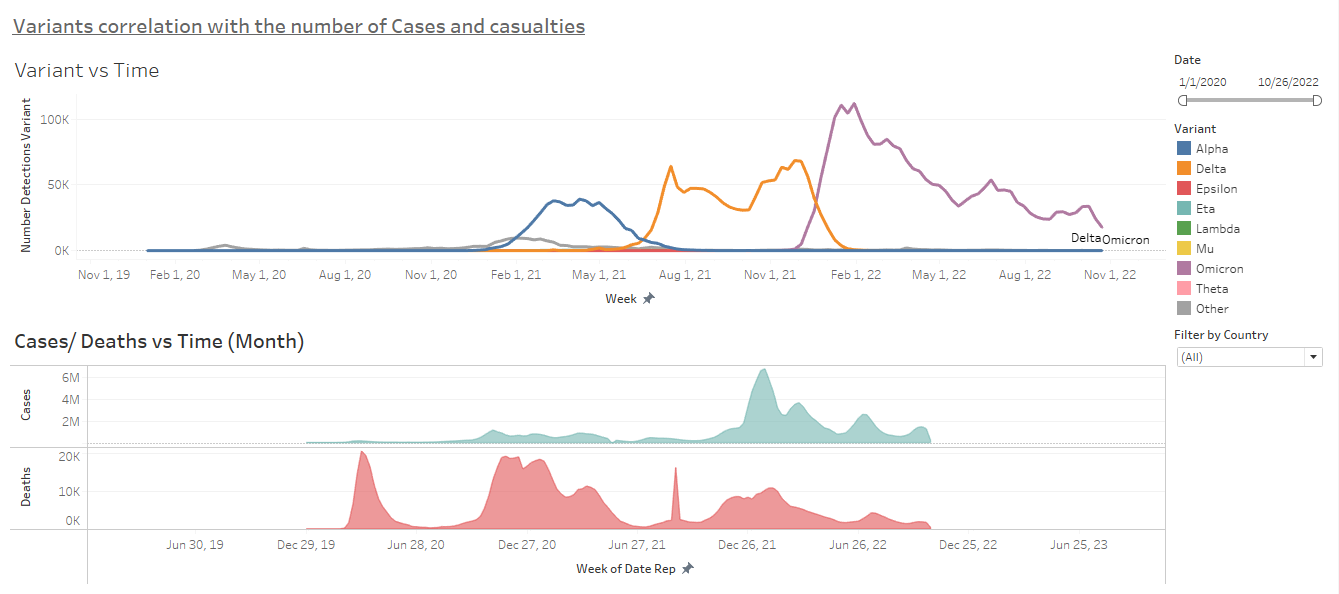

The page's visual inventory and layout, read from the dashboard file:
{"tool":"tableau","page":{"name":"Variant vs Cases/ Deaths","canvas":[1000,1000],"units":"permille","ordinal":12},"visuals":[{"type":"text","box":[6,13.3,988.1,73.1]},{"type":"worksheet","title":"Variant vs Time","mark":"Automatic","rows":["number_detections_variant"],"cols":["Calculation_1670272523835125762"],"box":[6,86.4,868.7,450.2]},{"type":"filter","title":"Variant vs Time","param":"[federated.0xkkdh10fpz2wn14k5fxt0op2lj3].[none:dateRep:qk]","box":[874.6,86.4,119.4,114.6]},{"type":"legend","title":"Variant vs Time","param":"[federated.0xkkdh10fpz2wn14k5fxt0op2lj3].[Variant (group)]","box":[874.6,201,119.4,342.2]},{"type":"worksheet","title":"Cases/ Deaths vs Time (Month)","mark":"Area","rows":["cases","deaths"],"cols":["dateRep"],"box":[6,536.5,868.7,450.2]},{"type":"filter","title":"Cases/ Deaths vs Time (Month)","param":"[federated.0xkkdh10fpz2wn14k5fxt0op2lj3].[none:countriesAndTerritories:nk]","box":[874.6,543.2,119.4,156.2]}]}

Visuals, with their boxes on the dashboard's canvas, which has no fixed pixel size, in thousandths of its width and height (x1, y1, x2, y2). These are canvas units, not pixel positions in the 1339x594 screenshot, which may show the page scaled, cropped or inside an application window:
text: BBox(6, 13, 994, 86)
"Variant vs Time" worksheet: BBox(6, 86, 875, 537)
"Variant vs Time" filter: BBox(875, 86, 994, 201)
"Variant vs Time" legend: BBox(875, 201, 994, 543)
"Cases/ Deaths vs Time (Month)" worksheet (Area marks): BBox(6, 536, 875, 987)
"Cases/ Deaths vs Time (Month)" filter: BBox(875, 543, 994, 699)
